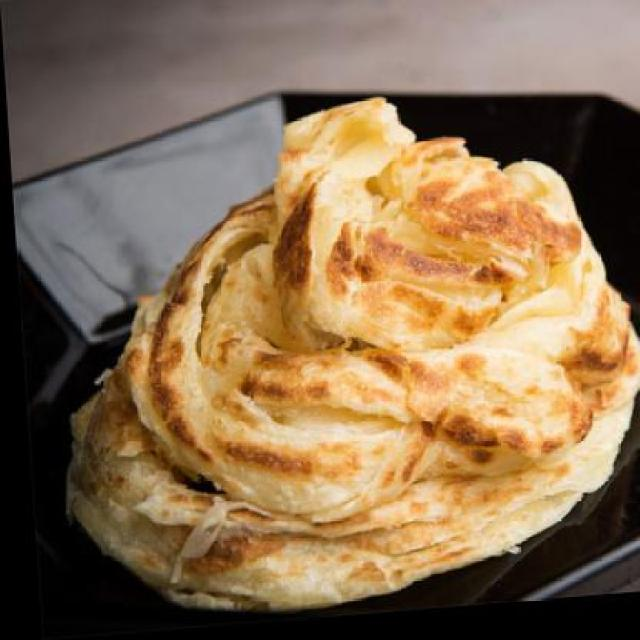chapati: (46, 87, 639, 618)
